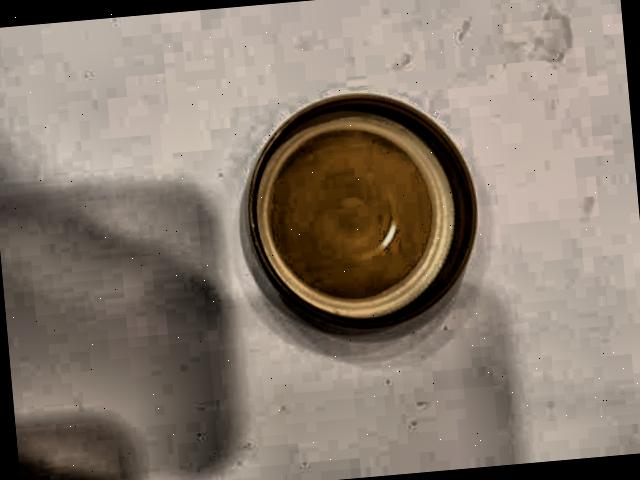Almennt: (208, 66, 518, 375)
